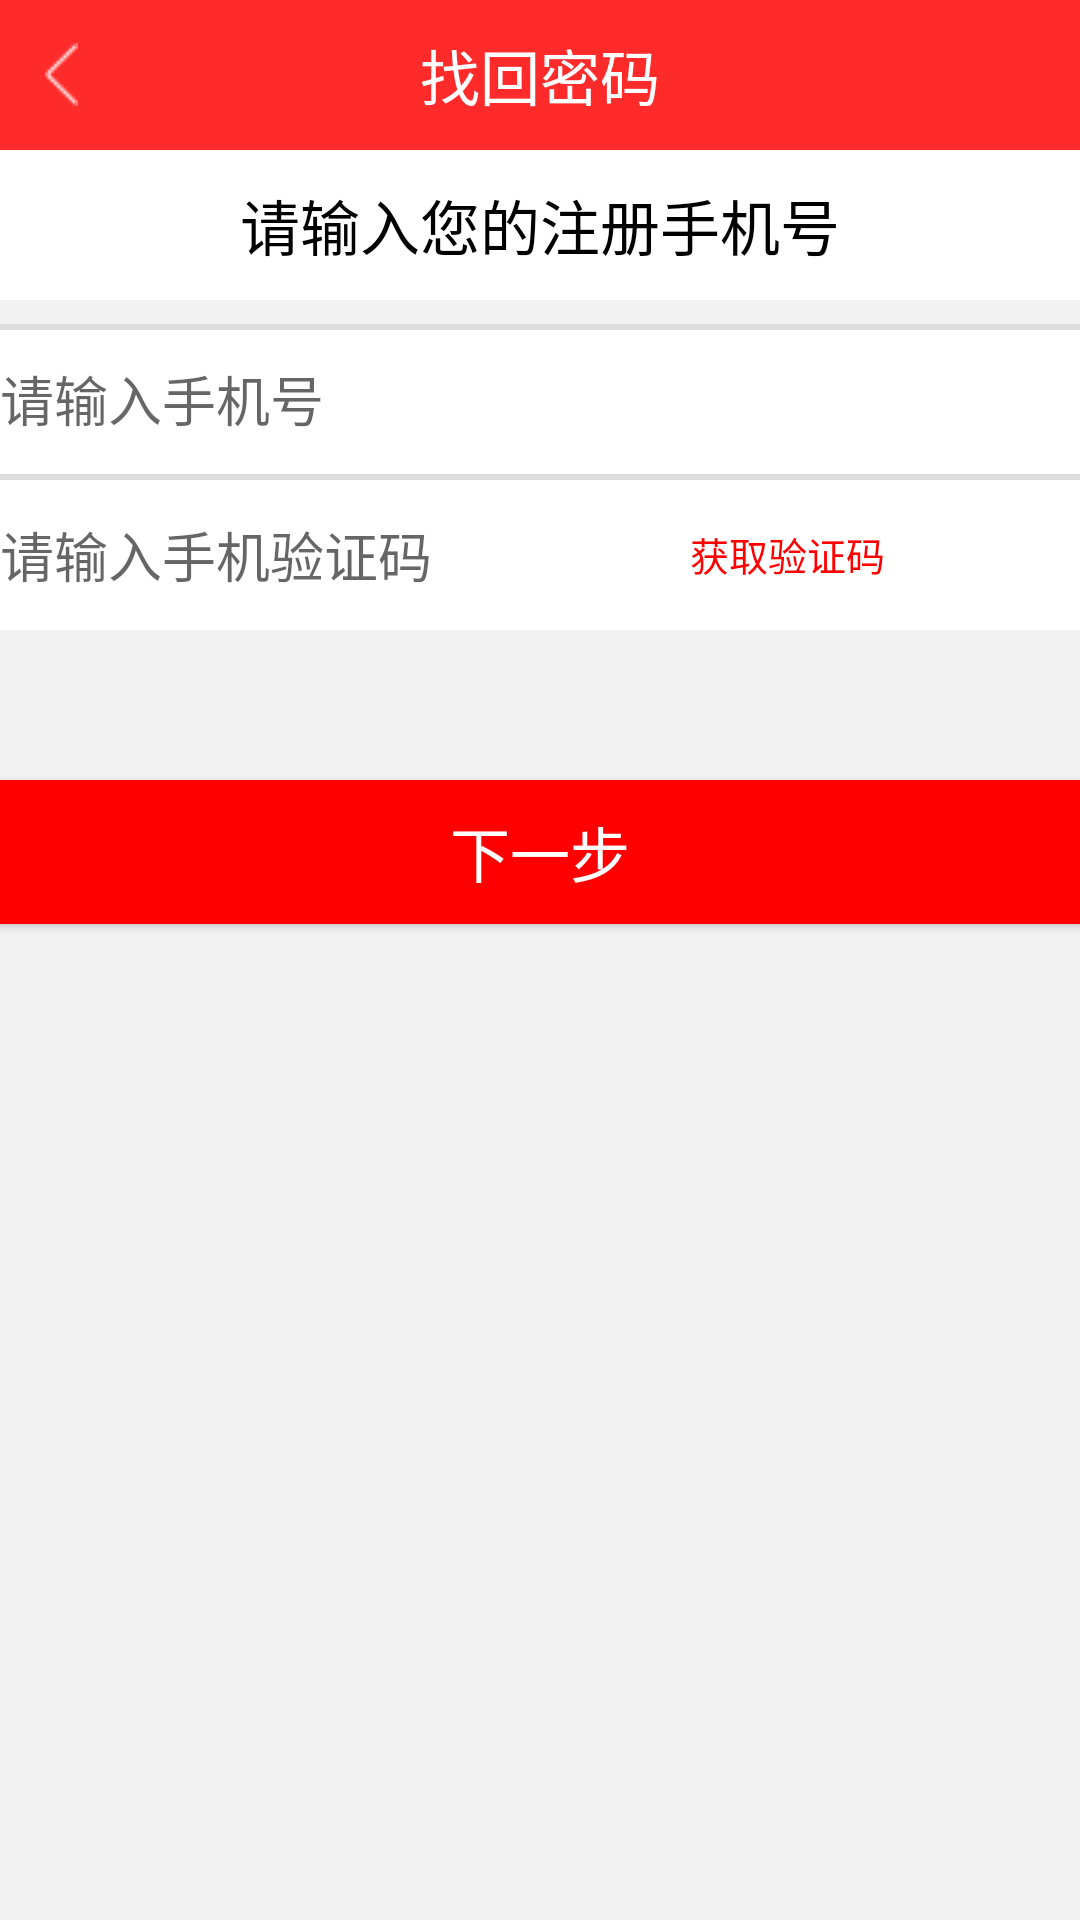

Icon click points for this 1080×1920 phone screenshot, format point (x, y):
fanhui: point (61, 74)
